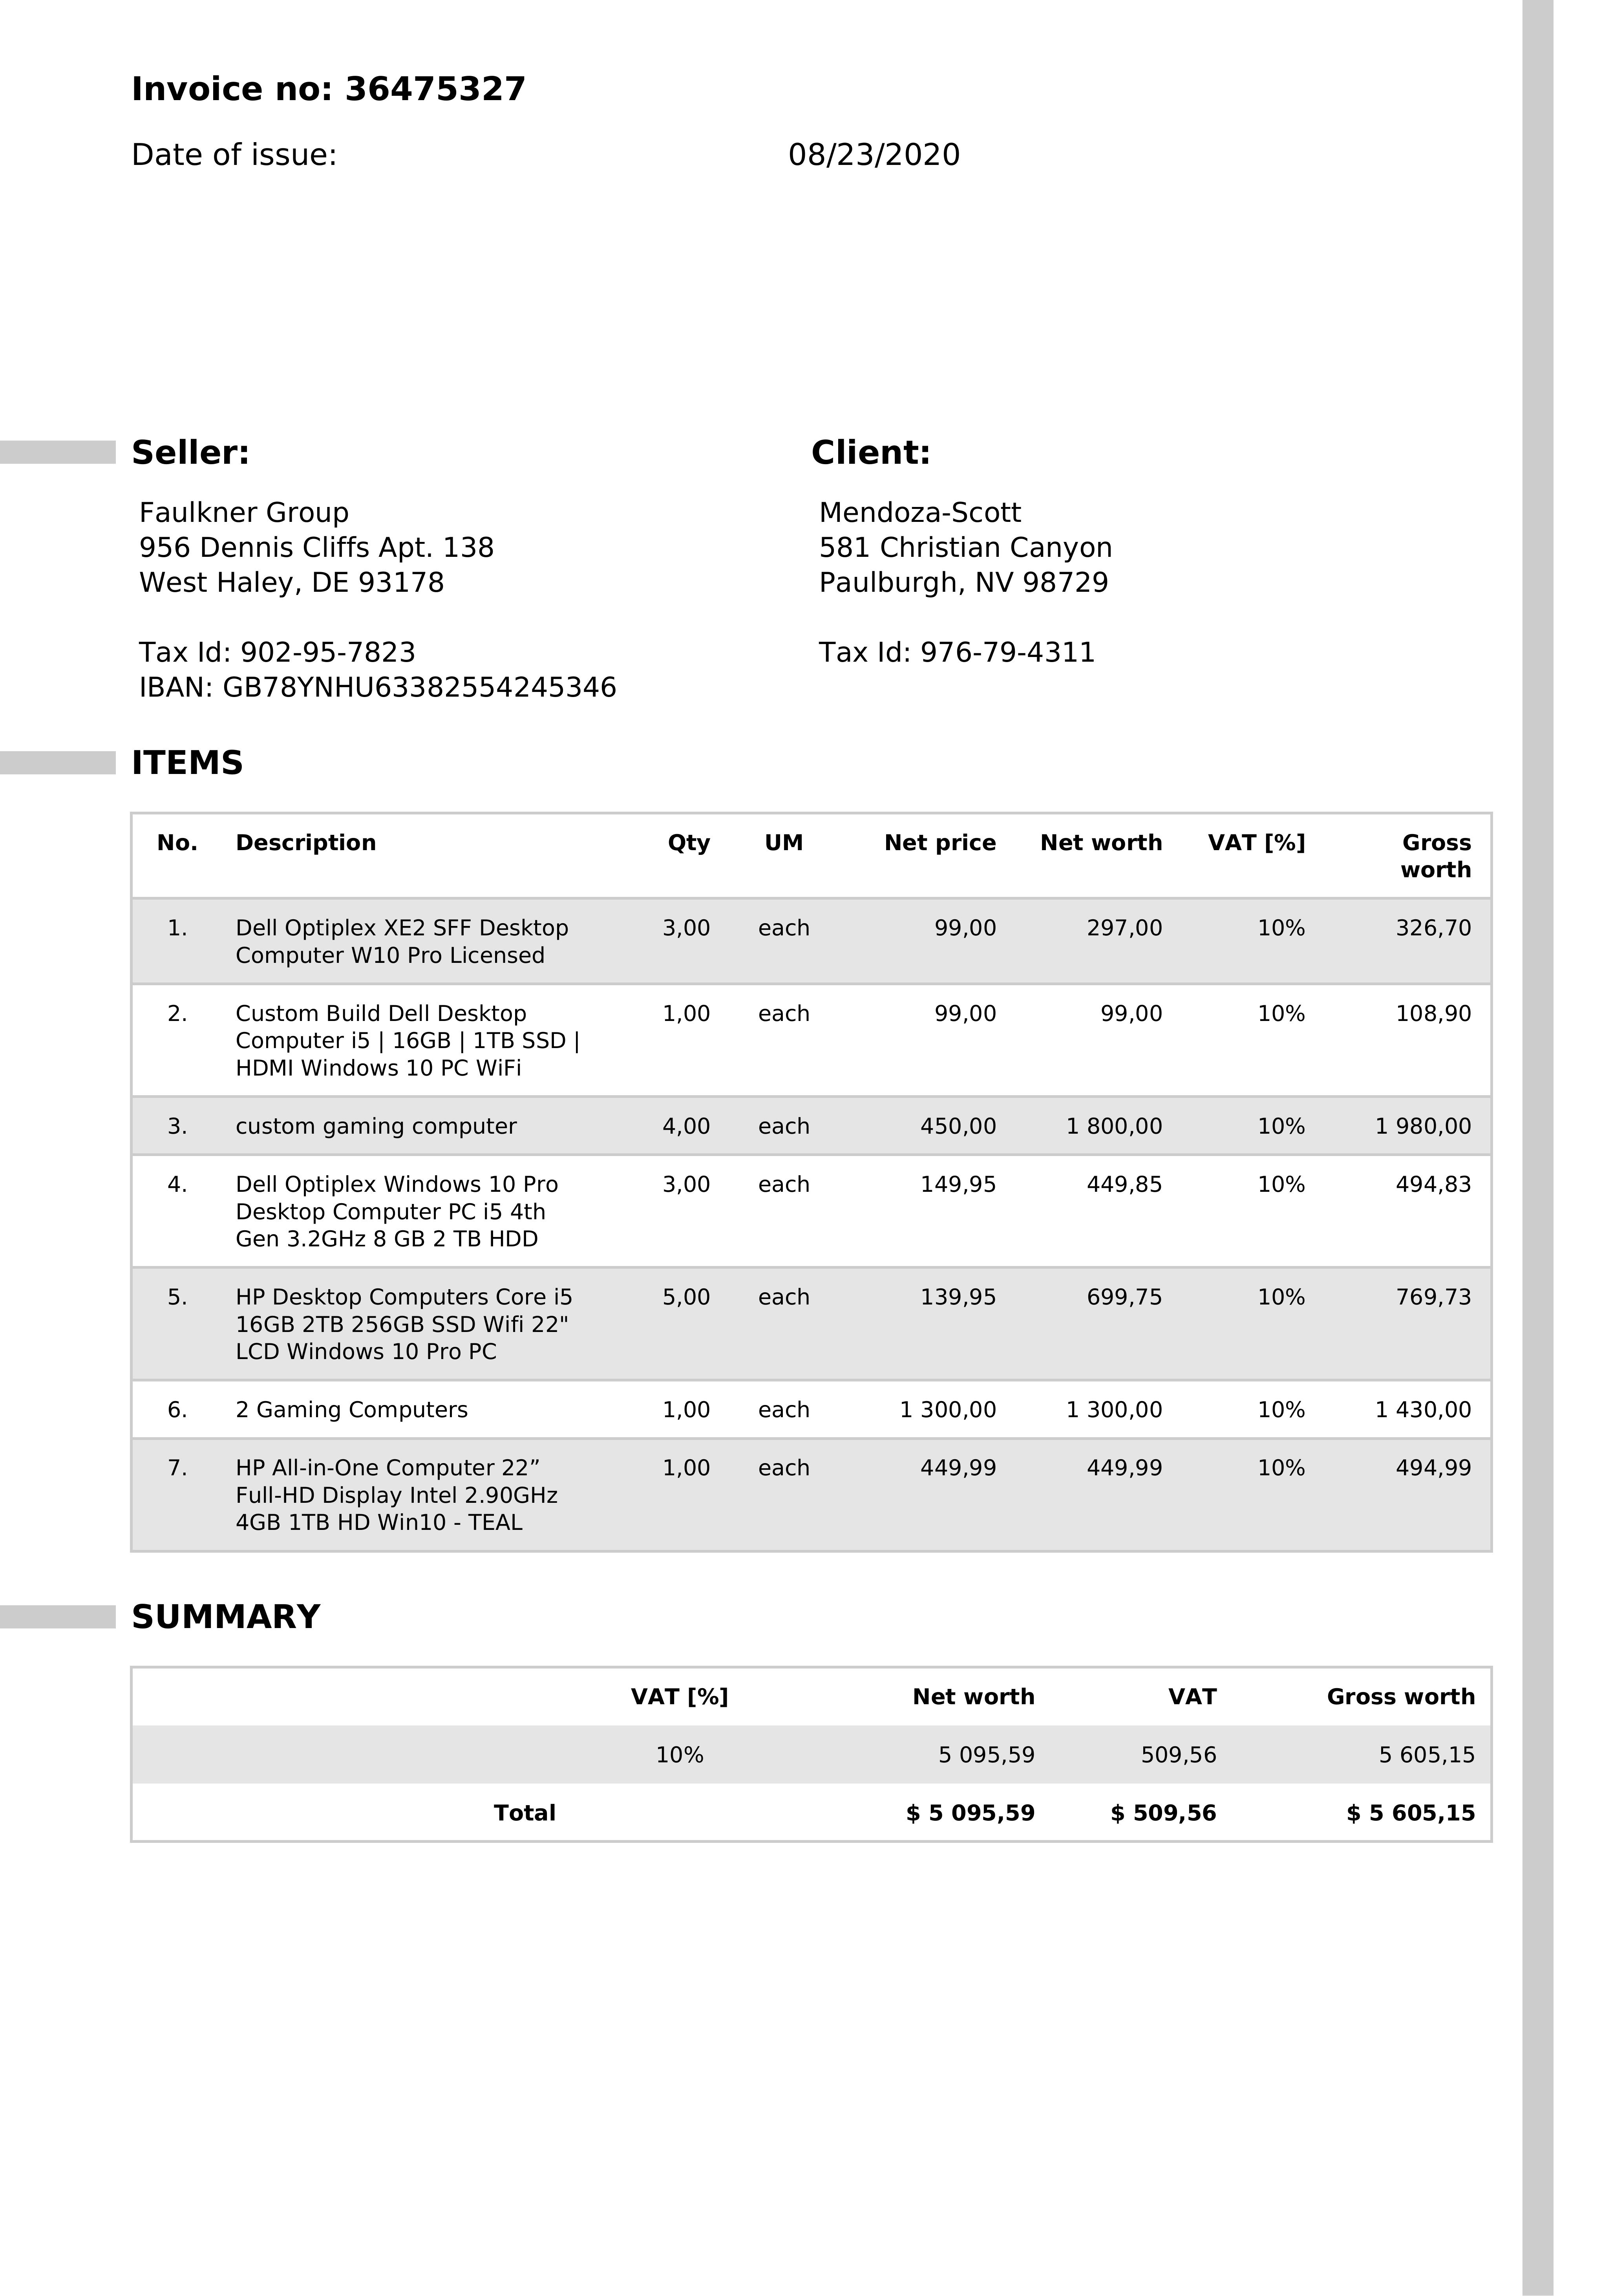column: (218, 817, 601, 1548), (866, 817, 1021, 1551), (1035, 817, 1187, 1548), (1200, 815, 1337, 1548), (1363, 817, 1491, 1546), (634, 817, 731, 1548), (750, 815, 836, 1558), (1312, 1665, 1491, 1839), (892, 1669, 1059, 1839), (1103, 1671, 1249, 1843), (618, 1665, 743, 1839), (464, 1664, 576, 1843)
